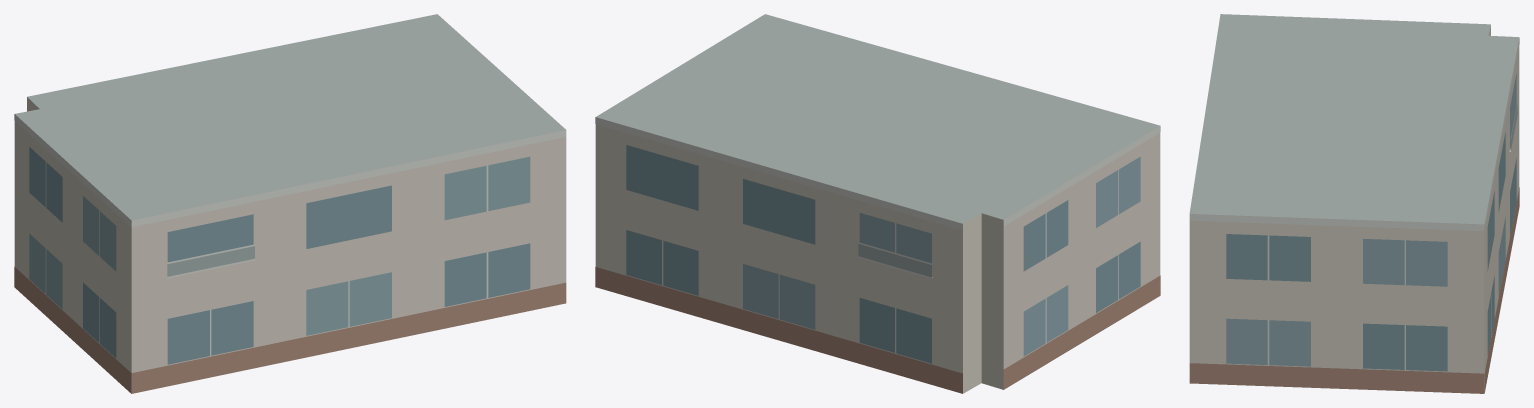
Rendered from survey-upis-32939303.glb.
3 renders of one model, left to right at view 1: azimuth 30°, elevation 25°; view 2: azimuth 150°, elevation 25°; view 3: azimuth 270°, elevation 25°, orthographic. The views are drawn at different scales.
Visible parts, largest first — view 1: survey-upis-32939303.tmp; view 2: survey-upis-32939303.tmp; view 3: survey-upis-32939303.tmp.
Part boxes in pixels (x1=…): survey-upis-32939303.tmp: x1=14, y1=14, x2=566, y2=393; survey-upis-32939303.tmp: x1=595, y1=14, x2=1160, y2=393; survey-upis-32939303.tmp: x1=1189, y1=14, x2=1519, y2=393.
Bounding box in the file's own units: 16.24 × 6.1 × 10.77.
